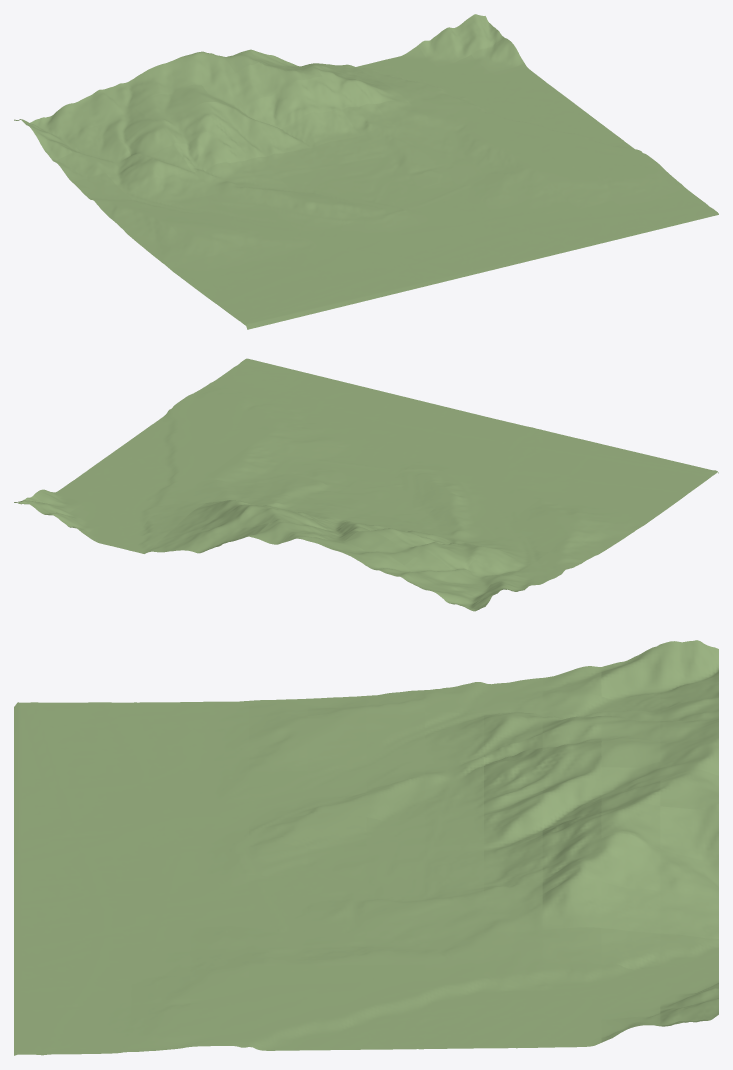
The model's file is terrain_lod2.glb.
3 views of the same model, one above another, from view 1: azimuth 30°, elevation 25°; view 2: azimuth 150°, elevation 25°; view 3: azimuth 270°, elevation 25° (orthographic). The views are drawn at different scales.
Parts seen in each view (by area): view 1: t_6_9, t_7_9, t_6_10, t_12_11, t_13_11, t_3_8, t_4_11, t_2_11, t_2_9, t_5_8, t_7_8, t_8_9 (+146 smaller); view 2: t_2_10, t_8_11, t_1_8, t_9_4, t_10_4, t_10_6, t_2_9, t_0_5, t_7_10, t_10_5, t_0_1, t_0_4 (+133 smaller); view 3: t_8_10, t_7_11, t_9_9, t_9_10, t_0_11, t_9_11, t_0_10, t_8_11, t_10_10, t_10_9, t_5_9, t_5_5 (+153 smaller).
Boxes of the visible parts, x1,y1,x2,y2 form: t_6_9: (255,85,307,129); t_7_9: (289,76,341,113); t_6_10: (236,62,288,100); t_12_11: (418,27,471,66); t_13_11: (452,14,504,54); t_3_8: (173,131,225,171); t_4_11: (149,56,201,94); t_2_11: (81,86,133,123); t_2_9: (121,120,172,158); t_5_8: (241,123,293,156); t_7_8: (308,109,360,142); t_8_9: (322,75,375,109); t_2_10: (404,550,456,581); t_8_11: (182,525,235,553); t_1_8: (477,548,528,574); t_9_4: (285,442,337,467); t_10_4: (251,431,303,457); t_10_6: (212,458,264,482); t_2_9: (423,543,476,570); t_0_5: (569,526,621,551); t_7_10: (236,505,288,527); t_10_5: (232,444,284,470); t_0_1: (646,477,699,499); t_0_4: (588,516,641,539); t_8_10: (601,833,660,890); t_7_11: (660,804,718,859); t_9_9: (542,876,601,930); t_9_10: (601,881,660,933); t_0_11: (660,640,718,692); t_9_11: (660,891,718,938); t_0_10: (601,644,660,699); t_8_11: (660,849,718,898); t_10_10: (601,928,660,969); t_10_9: (542,927,601,964); t_5_9: (542,767,601,822); t_5_5: (307,812,366,848).
Size of the model in its own units: 3584 by 456 by 3072.
